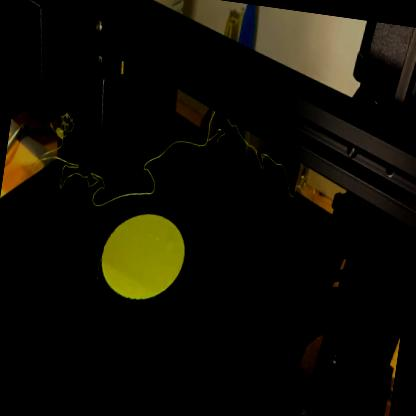fail: (43, 112, 207, 219)
